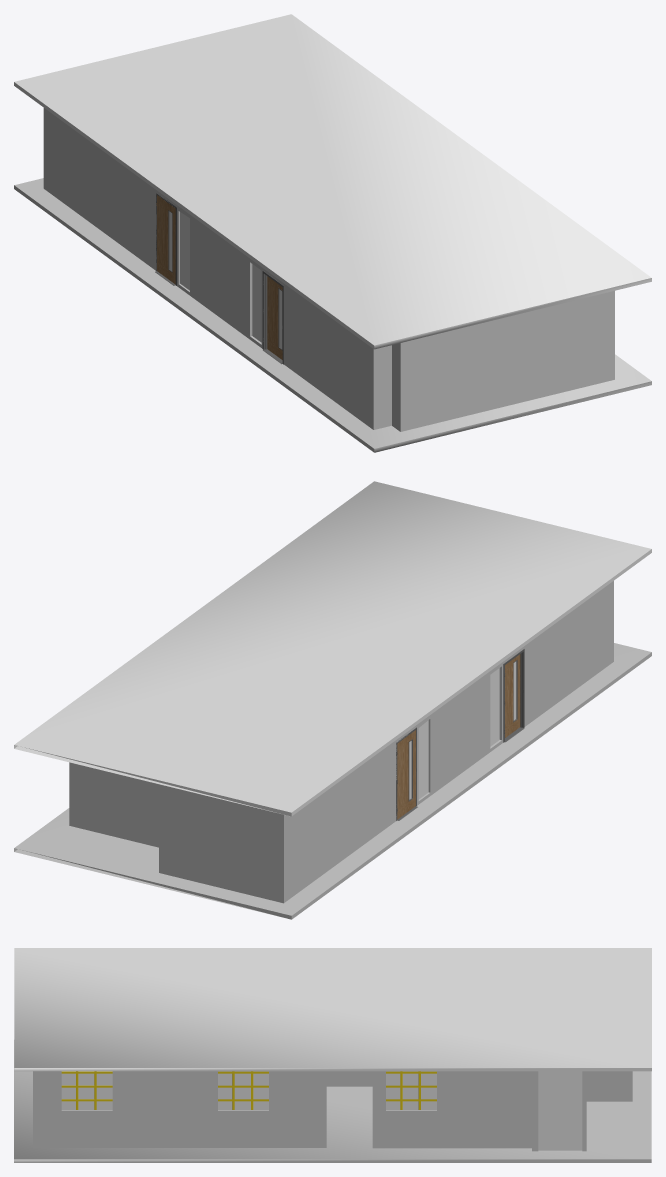
The model's file is MarketingSuite.fbx.
3 views of the same model, one above another, from view 1: azimuth 30°, elevation 25°; view 2: azimuth 150°, elevation 25°; view 3: azimuth 270°, elevation 25° (orthographic). The views are drawn at different scales.
Parts seen in each view (by area): view 1: ceiling, walls, floor_0.001, door_004.001, door windows, door_004.002, frame_004.002; view 2: ceiling, walls, floor_0.001, door windows, door_004.001, door_004.002; view 3: ceiling, walls, floor_0.001, door_0.001, window right, window left, window mid, window bars.001, window bars.002, window bars.
Boxes of the visible parts, bbox=[...] form: ceiling: bbox=[14, 14, 651, 349]; walls: bbox=[43, 108, 614, 431]; floor_0.001: bbox=[14, 178, 651, 452]; door_004.001: bbox=[156, 195, 175, 284]; door windows: bbox=[180, 212, 261, 342]; door_004.002: bbox=[267, 276, 282, 359]; frame_004.002: bbox=[262, 271, 283, 364]; ceiling: bbox=[14, 481, 651, 816]; walls: bbox=[69, 581, 613, 903]; floor_0.001: bbox=[14, 643, 651, 919]; door windows: bbox=[418, 668, 499, 799]; door_004.001: bbox=[397, 730, 415, 819]; door_004.002: bbox=[505, 654, 520, 737]; ceiling: bbox=[14, 948, 651, 1071]; walls: bbox=[33, 1071, 632, 1151]; floor_0.001: bbox=[14, 1040, 651, 1162]; door_0.001: bbox=[538, 1071, 582, 1150]; window right: bbox=[61, 1071, 112, 1109]; window left: bbox=[386, 1071, 436, 1109]; window mid: bbox=[218, 1071, 268, 1109]; window bars.001: bbox=[61, 1071, 112, 1109]; window bars.002: bbox=[386, 1071, 436, 1109]; window bars: bbox=[218, 1071, 268, 1109].
Size of the model in its own units: 744 by 275 by 1674.
